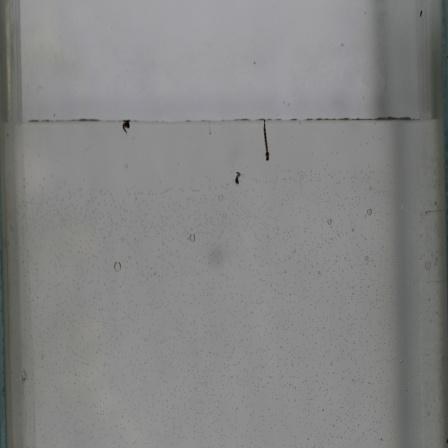Jentik-Nyamuk: (258, 119, 276, 167), (119, 120, 136, 139), (234, 168, 245, 188)
